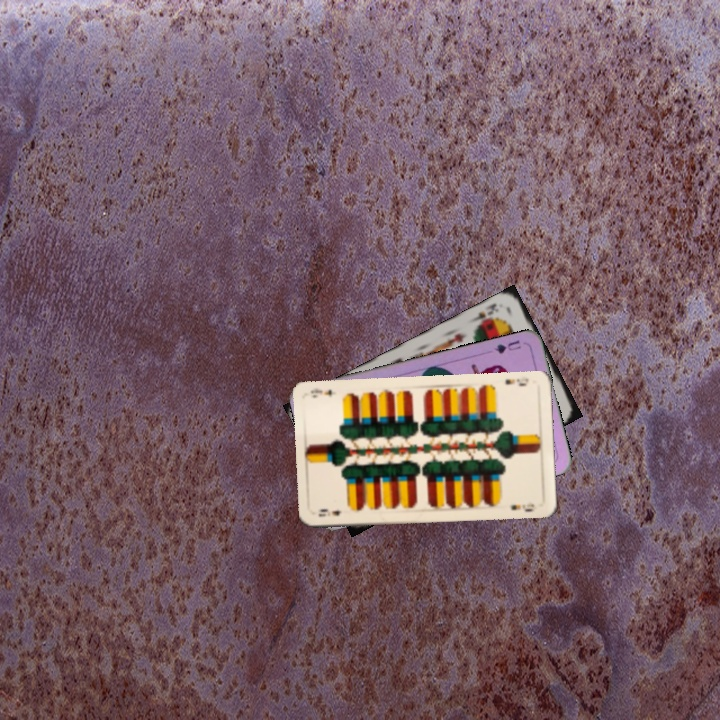E9: (314, 505, 345, 519), (502, 374, 531, 388)
GU: (490, 336, 523, 356)
SK: (468, 299, 501, 330)
